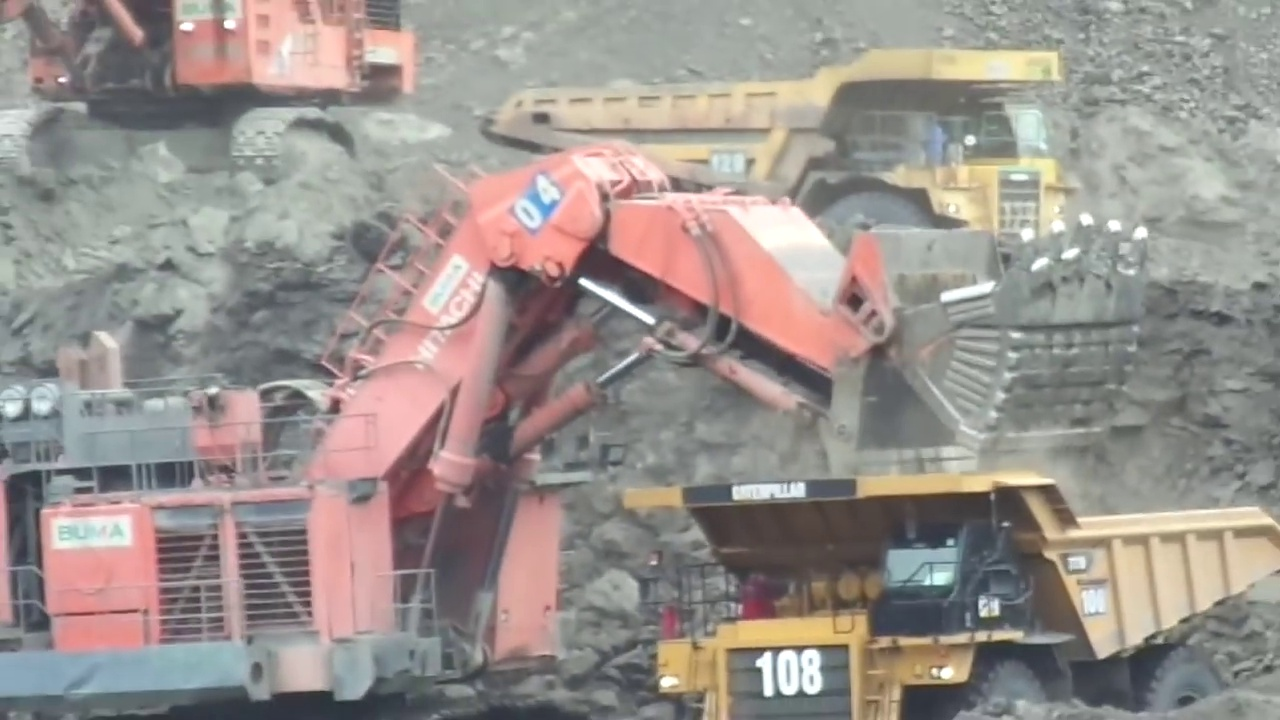dumper: (620, 469, 1280, 720), (482, 51, 1073, 280)
excavator: (4, 143, 1148, 686), (1, 2, 425, 175)
